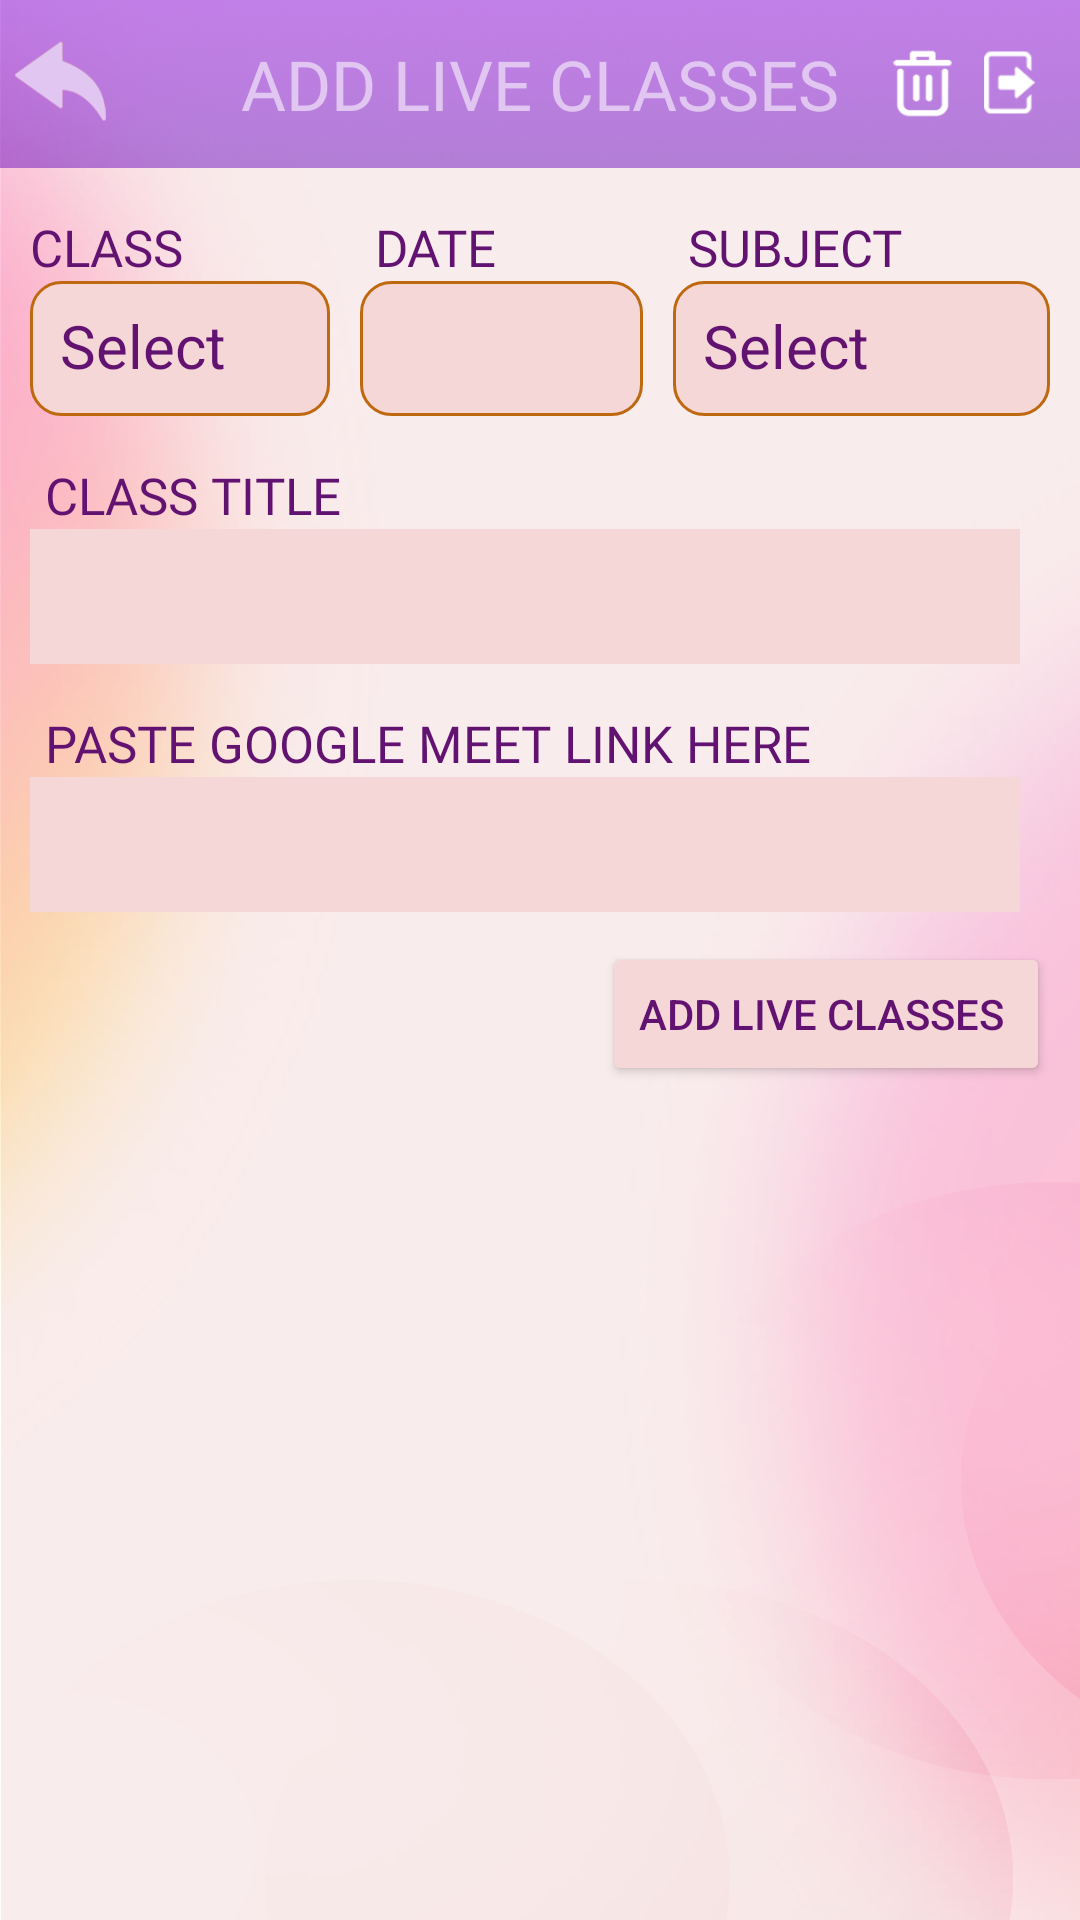

Named icons in this screenshot (1080x1920) and their centers, (x=x, y=y):
undo: (x=60, y=92)
